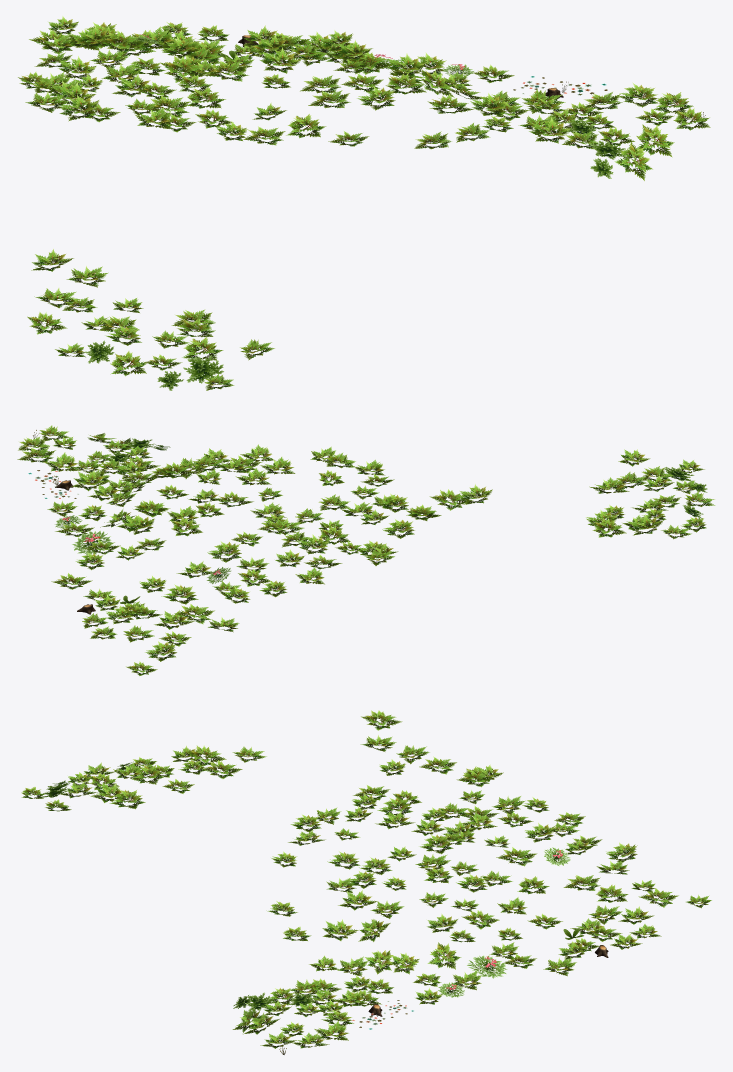
Rendered from Ferns_09.fbx.
3 views of the same model, one above another, from view 1: azimuth 30°, elevation 25°; view 2: azimuth 150°, elevation 25°; view 3: azimuth 270°, elevation 25° (orthographic). The views are drawn at different scales.
Parts seen in each view (by area): view 1: Ferns_09; view 2: Ferns_09; view 3: Ferns_09.
Part boxes in pixels (bbox=[...]): Ferns_09: bbox=[18, 16, 710, 390]; Ferns_09: bbox=[17, 425, 715, 675]; Ferns_09: bbox=[21, 710, 711, 1054].
Bounding box in the file's own units: 8456 × 1575 × 8466.
